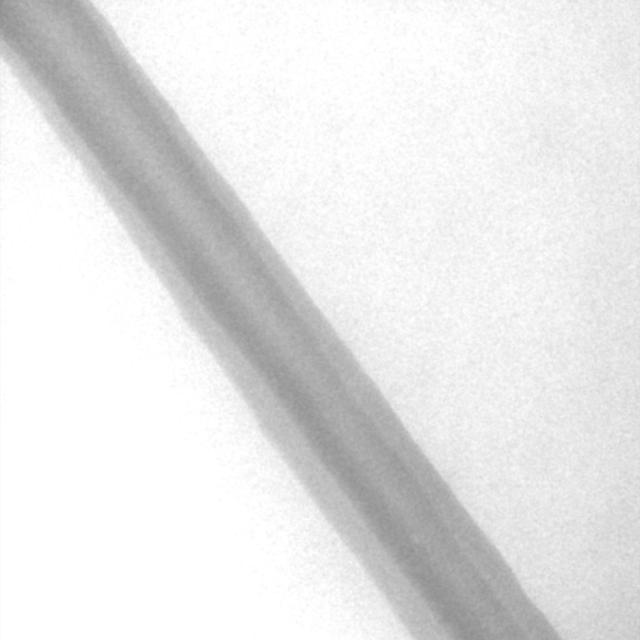air hole: (410, 533, 420, 547)
